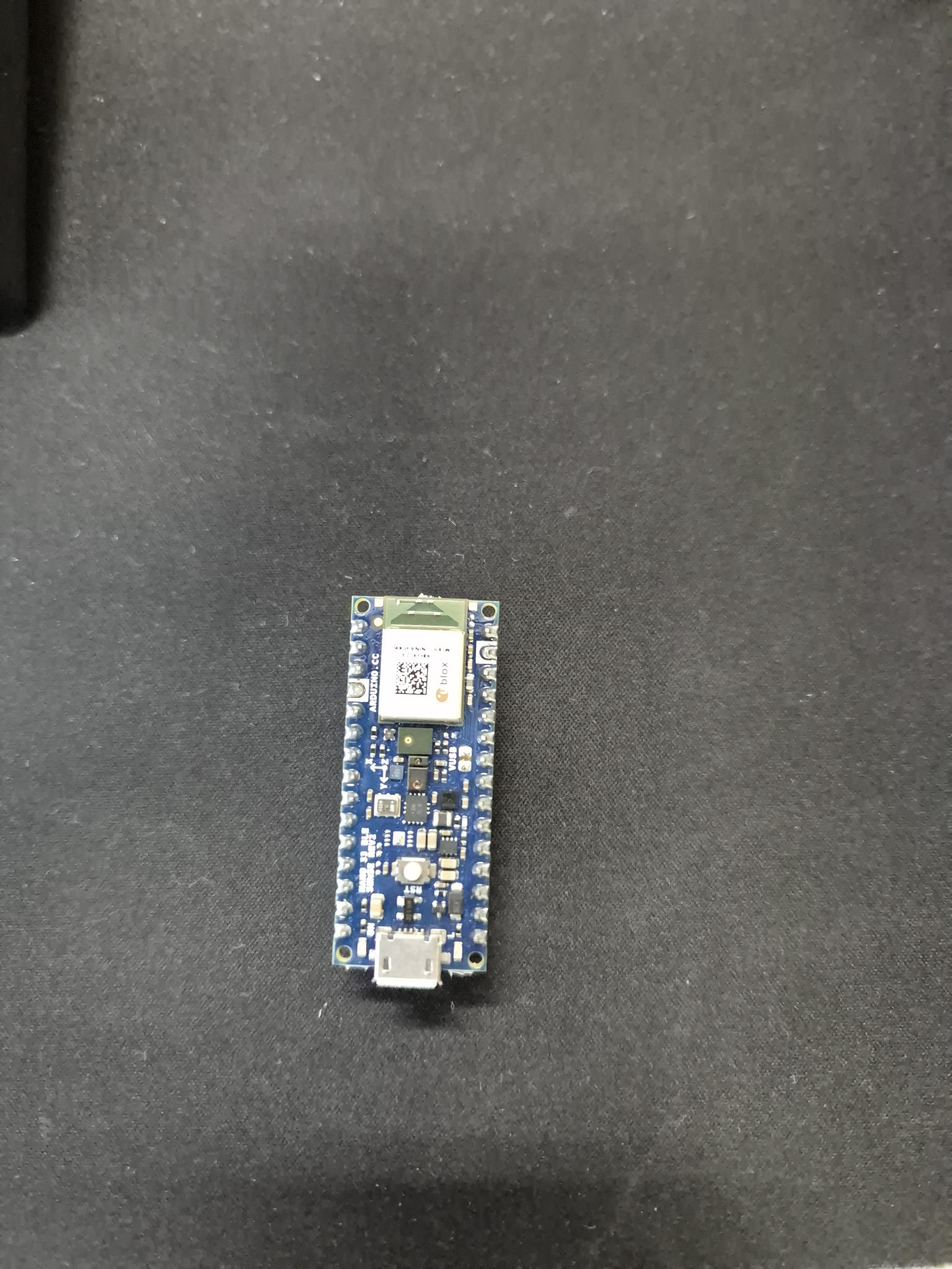arduino-nano-ble-sense: (333, 595, 499, 988)
